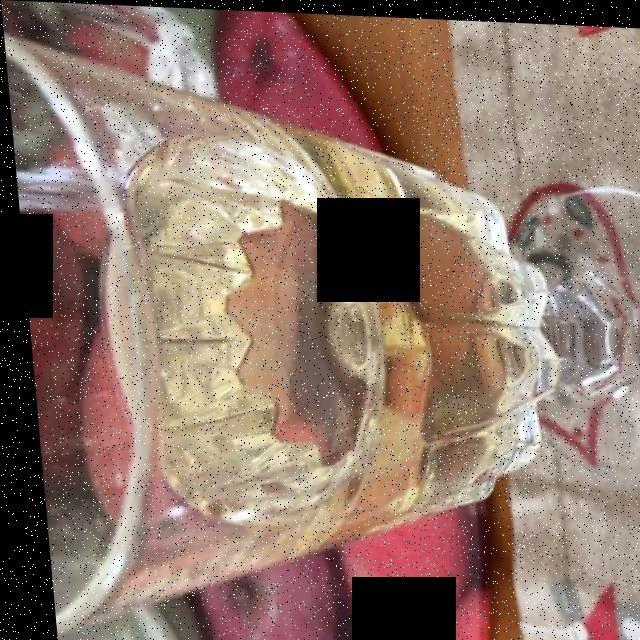wine: (73, 87, 531, 556)
